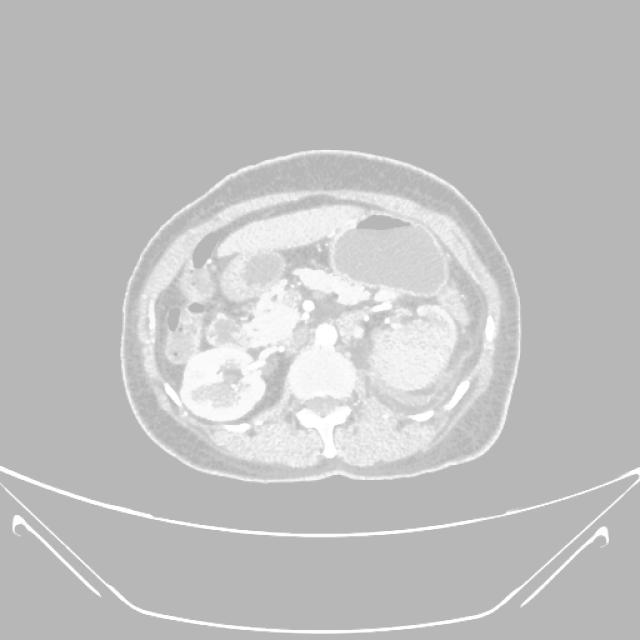TUMOR: (61, 190, 431, 380)
